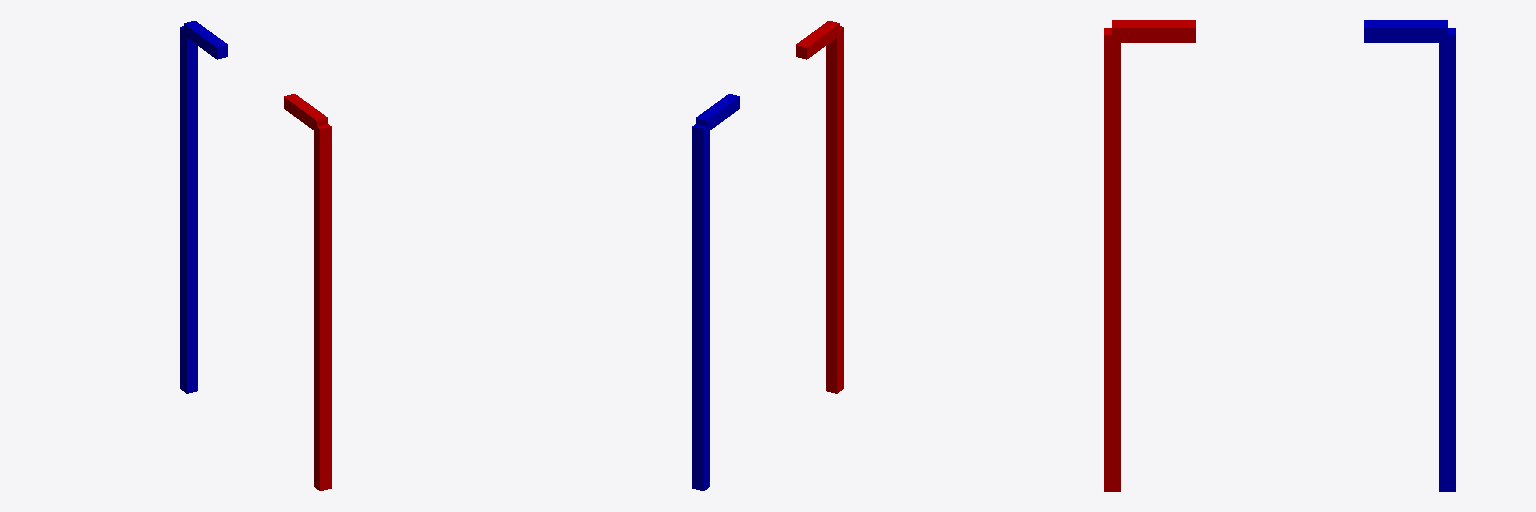
URDF robot description (Airbot):
<?xml version="1.0" ?>
<!-- =================================================================================== -->
<!-- |    This document was autogenerated by xacro from airbot4.xacro                  | -->
<!-- |    EDITING THIS FILE BY HAND IS NOT RECOMMENDED                                 | -->
<!-- =================================================================================== -->
<robot name="Airbot" xmlns:xacro="http://www.ros.org/wiki/xacro">
  <!--Structural Properties-->
  <link name="baselink"/>
  <link name="airbase">
    <visual>
      <origin rpy="0 0 0" xyz="0.0 0.0 0.05"/>
      <geometry>
        <mesh filename="package://gcop_urdf/meshes/pelican1.dae" scale="0.025 0.025 0.025"/>
        <!--box size="0.3 ${l1} 0.5"/-->
      </geometry>
      <material name="blue">
        <color rgba="0 0 0.8 1"/>
      </material>
    </visual>
    <inertial>
      <mass value="3"/>
      <inertia ixx="0.01296" ixy="0.0" ixz="0.0" iyy="0.01296" iyz="0.0" izz="0.02523"/>
    </inertial>
  </link>
  <link name="link1">
    <visual>
      <origin rpy="0 0 0" xyz="0.0 0.05 0.0"/>
      <material name="blue">
        <color rgba="0 0 0.8 1"/>
      </material>
      <geometry>
        <box size="0.02 0.1 0.02"/>
      </geometry>
    </visual>
    <inertial>
      <origin rpy="0 0 0" xyz="0.0 0.05 0.0"/>
      <mass value="0.2"/>
      <inertia ixx="0.000693333333333" ixy="0.0" ixz="0.0" iyy="5.33333333333e-05" iyz="0.0" izz="0.000693333333333"/>
    </inertial>
  </link>
  <link name="link2">
    <visual>
      <origin rpy="0 0 0" xyz="0.0 0.0 -0.15"/>
      <geometry>
        <box size="0.02 0.02 0.3"/>
      </geometry>
      <material name="blue">
        <color rgba="0 0 0.8 1"/>
      </material>
    </visual>
    <inertial>
      <origin rpy="0 0 0" xyz="0.0 0.0 -0.15"/>
      <mass value="0.3"/>
      <inertia ixx="0.00904" ixy="0.0" ixz="0.0" iyy="0.00904" iyz="0.0" izz="8e-05"/>
    </inertial>
  </link>
  <link name="link3">
    <visual>
      <origin rpy="0 0 0" xyz="0.0 0.0 -0.15"/>
      <geometry>
        <box size="0.02 0.02 0.3"/>
      </geometry>
      <material name="blue">
        <color rgba="0 0 0.8 1"/>
      </material>
    </visual>
    <inertial>
      <origin rpy="0 0 0" xyz="0.0 0.0 -0.15"/>
      <mass value="0.2"/>
      <inertia ixx="0.00602666666667" ixy="0.0" ixz="0.0" iyy="0.00602666666667" iyz="0.0" izz="5.33333333333e-05"/>
    </inertial>
  </link>
  <link name="link4">
    <visual>
      <origin rpy="0 0 0" xyz="0.0 -0.05 0.0"/>
      <material name="red">
        <color rgba="0.8 0 0 1"/>
      </material>
      <geometry>
        <box size="0.02 0.1 0.02"/>
      </geometry>
    </visual>
    <inertial>
      <origin rpy="0 0 0" xyz="0.0 -0.05 0.0"/>
      <mass value="0.2"/>
      <inertia ixx="0.000693333333333" ixy="0.0" ixz="0.0" iyy="5.33333333333e-05" iyz="0.0" izz="0.000693333333333"/>
    </inertial>
  </link>
  <link name="link5">
    <visual>
      <origin rpy="0 0 0" xyz="0.0 0.0 -0.15"/>
      <geometry>
        <box size="0.02 0.02 0.3"/>
      </geometry>
      <material name="red">
        <color rgba="0.8 0 0 1"/>
      </material>
    </visual>
    <inertial>
      <origin rpy="0 0 0" xyz="0.0 0.0 -0.15"/>
      <mass value="0.3"/>
      <inertia ixx="0.00904" ixy="0.0" ixz="0.0" iyy="0.00904" iyz="0.0" izz="8e-05"/>
    </inertial>
  </link>
  <link name="link6">
    <visual>
      <origin rpy="0 0 0" xyz="0.0 0.0 -0.15"/>
      <geometry>
        <box size="0.02 0.02 0.3"/>
      </geometry>
      <material name="red">
        <color rgba="0.8 0 0 1"/>
      </material>
    </visual>
    <inertial>
      <origin rpy="0 0 0" xyz="0.0 0.0 -0.15"/>
      <mass value="0.2"/>
      <inertia ixx="0.00602666666667" ixy="0.0" ixz="0.0" iyy="0.00602666666667" iyz="0.0" izz="5.33333333333e-05"/>
    </inertial>
  </link>
  <!-- Joints -->
  <joint name="basetoairbase" type="fixed">
    <parent link="baselink"/>
    <child link="airbase"/>
    <origin rpy="0 0 0" xyz="0 0 0"/>
  </joint>
  <joint name="airbasetolink1" type="revolute">
    <parent link="airbase"/>
    <child link="link1"/>
    <origin rpy="0 0 0" xyz="0 0.1 -0.1"/>
    <axis xyz="0 0 1"/>
    <limit effort="30" lower="-5" upper="5" velocity="5.0"/>
  </joint>
  <joint name="link1tolink2" type="revolute">
    <parent link="link1"/>
    <child link="link2"/>
    <origin rpy="0 0 0" xyz="0 0.1 0"/>
    <axis xyz="0 1 0"/>
    <limit effort="30" lower="-5" upper="5" velocity="5.0"/>
  </joint>
  <joint name="link2tolink3" type="revolute">
    <parent link="link2"/>
    <child link="link3"/>
    <origin rpy="0 0 0" xyz="0 0 -0.3"/>
    <axis xyz="0 1 0"/>
    <limit effort="30" lower="-5" upper="5" velocity="5.0"/>
  </joint>
  <joint name="airbasetolink4" type="revolute">
    <parent link="airbase"/>
    <child link="link4"/>
    <origin rpy="0 0 0" xyz="0 -0.1 -0.1"/>
    <axis xyz="0 0 1"/>
    <limit effort="30" lower="-5" upper="5" velocity="5.0"/>
  </joint>
  <joint name="link4tolink5" type="revolute">
    <parent link="link4"/>
    <child link="link5"/>
    <origin rpy="0 0 0" xyz="0 -0.1 0"/>
    <axis xyz="0 1 0"/>
    <limit effort="30" lower="-5" upper="5" velocity="5.0"/>
  </joint>
  <joint name="link5tolink6" type="revolute">
    <parent link="link5"/>
    <child link="link6"/>
    <origin rpy="0 0 0" xyz="0 0 -0.3"/>
    <axis xyz="0 1 0"/>
    <limit effort="30" lower="-5" upper="5" velocity="5.0"/>
  </joint>
</robot>

--- What the picture shows (computed from the rendered views, not written in the file) ---
3 views of the same robot in one strip: view 1: azimuth 30°, elevation 25°; view 2: azimuth 150°, elevation 25°; view 3: azimuth 270°, elevation 25° (orthographic).
Robot: Airbot — 8 links, 7 joints (6 revolute, 1 fixed); root link baselink; default pose: every joint at zero.
Visible links, largest first — view 1: link5, link6, link3, link2, link1, link4; view 2: link2, link3, link6, link5, link4, link1; view 3: link5, link2, link3, link6, link1, link4.
Link boxes in pixels (x1,y1,x2,y2): link5: [314, 124, 331, 309]; link6: [314, 306, 331, 490]; link3: [180, 208, 197, 393]; link2: [180, 26, 197, 212]; link1: [184, 21, 227, 59]; link4: [284, 94, 327, 132]; link2: [692, 124, 709, 309]; link3: [692, 306, 709, 490]; link6: [826, 208, 843, 393]; link5: [826, 26, 843, 212]; link4: [796, 21, 839, 59]; link1: [696, 94, 739, 131]; link5: [1104, 28, 1120, 262]; link2: [1439, 28, 1455, 262]; link3: [1439, 263, 1455, 491]; link6: [1104, 263, 1120, 491]; link1: [1364, 20, 1447, 42]; link4: [1112, 20, 1195, 42].
Bounding box of the posed robot: 0.02 × 0.42 × 0.61 m (x, y, z).
0 mesh visuals loaded from 1 distinct referenced files (none loaded); not drawn: 1 (reference not matched to a file when rendering).